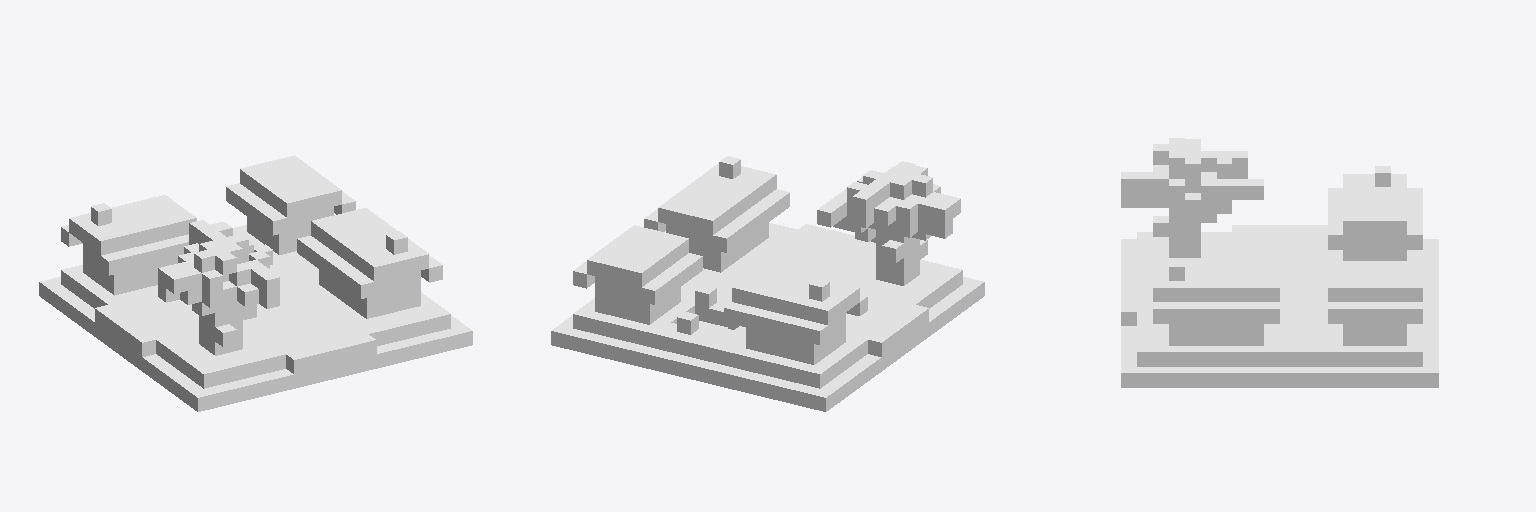
Rendered from cornertown.obj.
The picture shows the model from 3 angles: view 1: azimuth 30°, elevation 25°; view 2: azimuth 150°, elevation 25°; view 3: azimuth 270°, elevation 25°; orthographic projection.
Size of the model in its own units: 20 by 9 by 20.